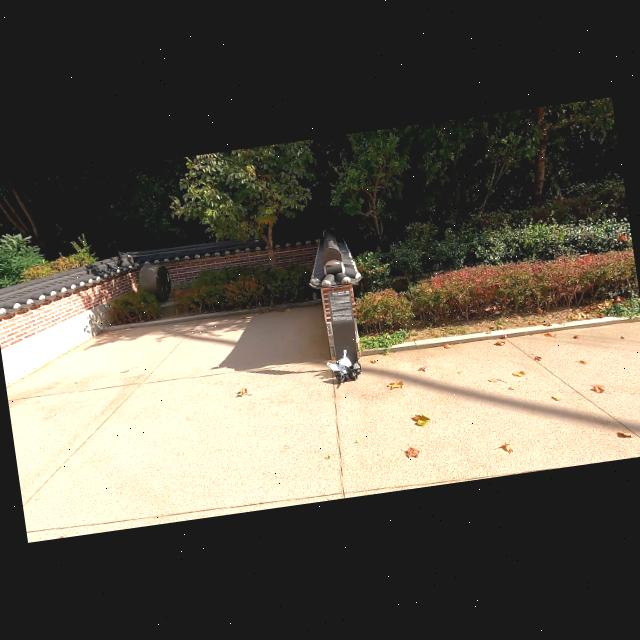trash: (322, 347, 356, 379), (344, 361, 364, 382), (332, 368, 350, 391)
